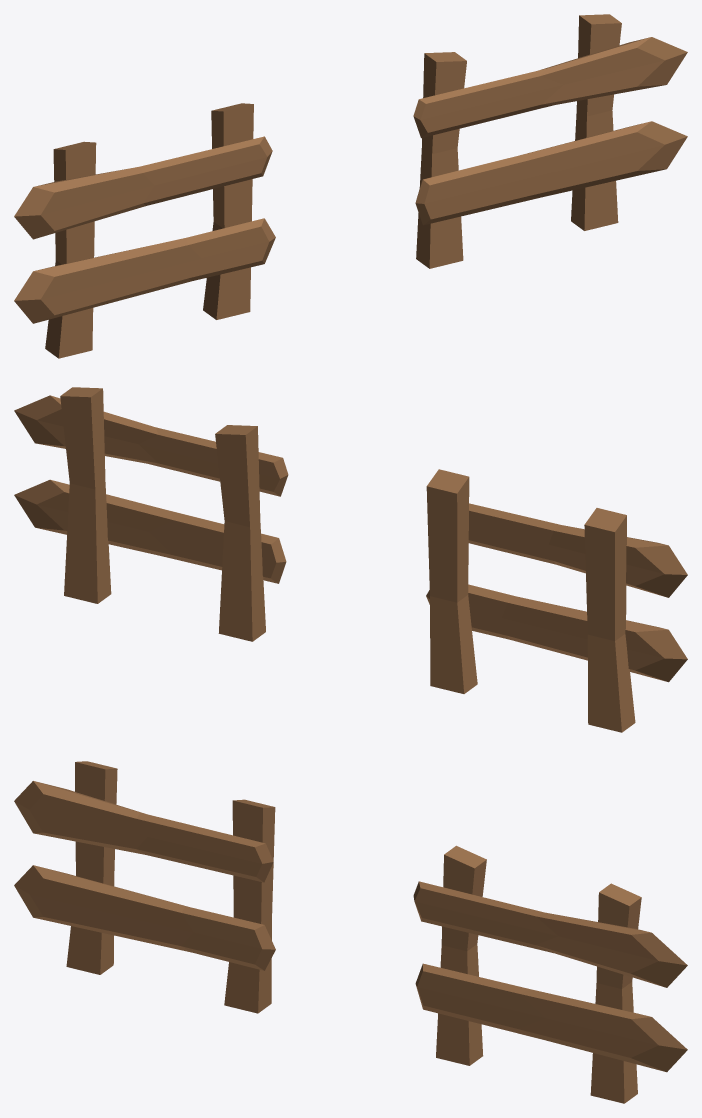
File: Fence_2 Gate.fbx
3 renders of one model, top to bottom at view 1: azimuth 30°, elevation 25°; view 2: azimuth 150°, elevation 25°; view 3: azimuth 330°, elevation 25°, orthographic.
Parts seen in each view (by area): view 1: Fence2Gate_mesh; view 2: Fence2Gate_mesh; view 3: Fence2Gate_mesh.
Boxes of the visible parts, x1,y1,x2,y2 form: Fence2Gate_mesh: (14,14,687,358); Fence2Gate_mesh: (14,387,687,732); Fence2Gate_mesh: (14,761,687,1103).
Bounding box in the file's own units: 347 × 102 × 20.56.
